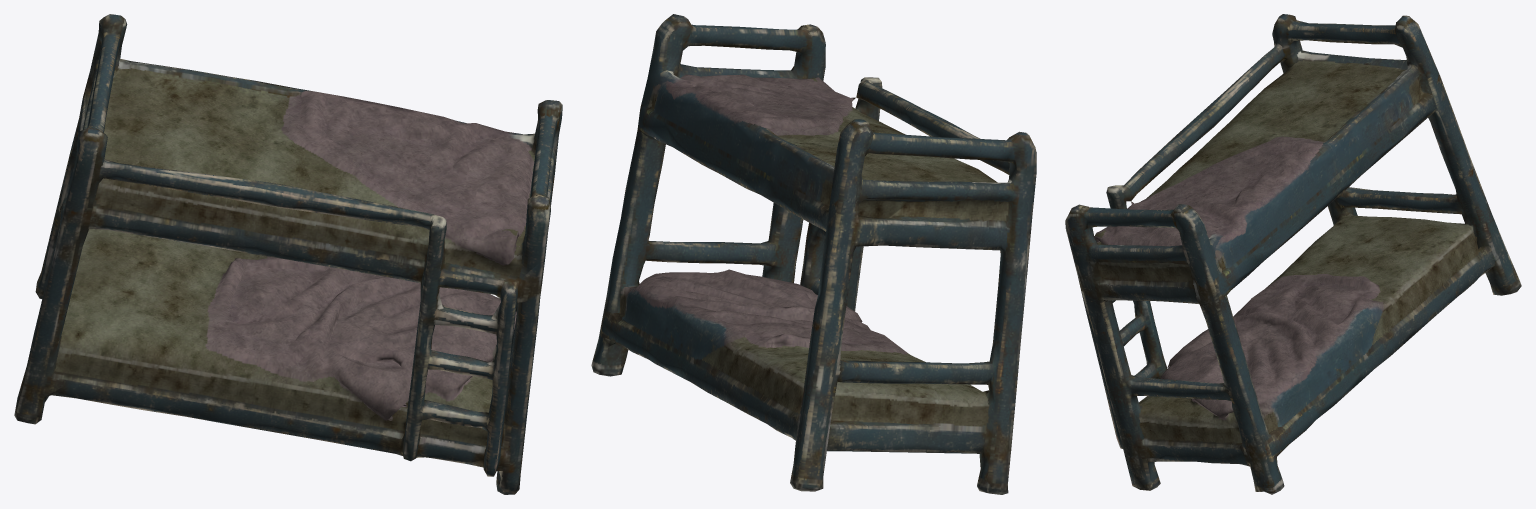
File: raw.glb
3 renders of one model, left to right at view 1: azimuth 30°, elevation 25°; view 2: azimuth 150°, elevation 25°; view 3: azimuth 270°, elevation 25°, orthographic. The views are drawn at different scales.
Size of the model in its own units: 0.9356 by 0.8192 by 0.9249.
Materials: 1 (1 with a texture image).
